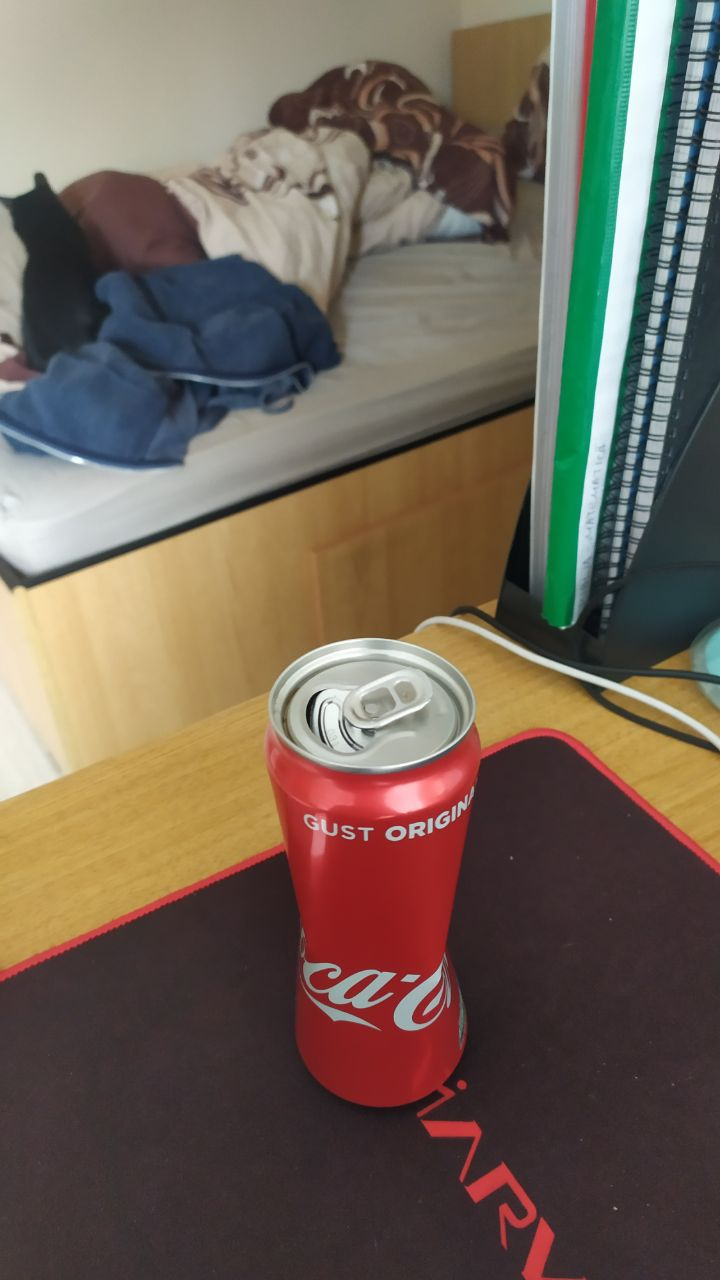Can: (256, 627, 495, 1112)
